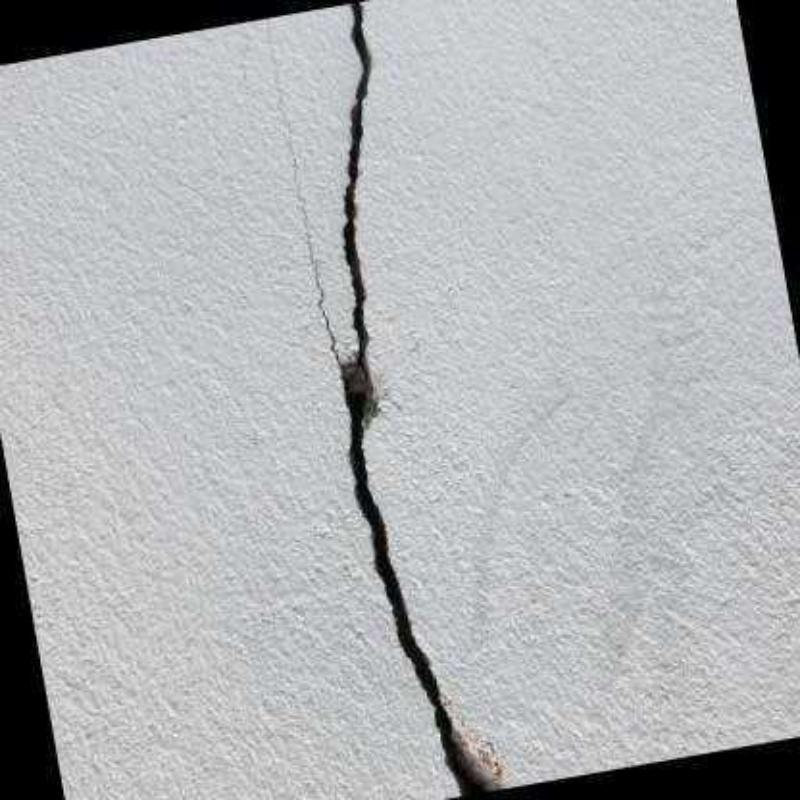crack: (338, 1, 506, 797), (290, 152, 344, 365)
